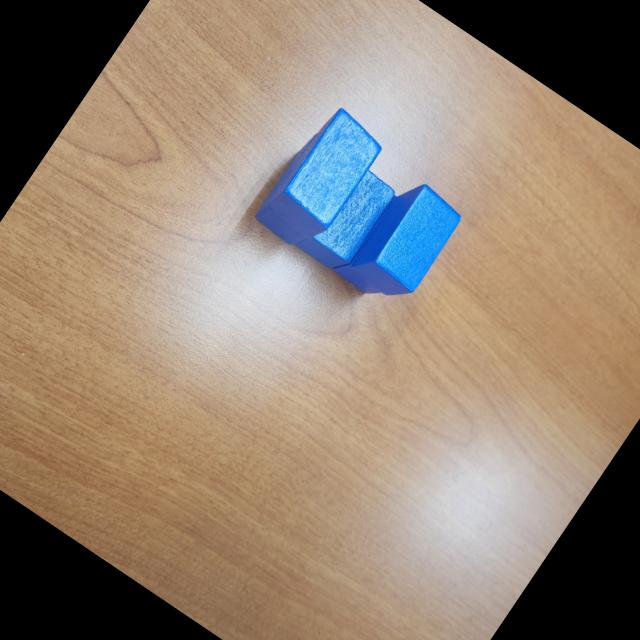blue: (264, 104, 389, 246), (347, 174, 468, 307), (249, 128, 362, 253), (292, 158, 401, 280), (330, 187, 432, 302)
